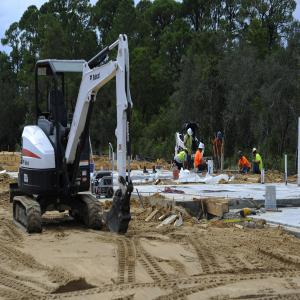blue: (218, 132, 223, 141), (239, 151, 243, 160), (185, 148, 189, 155)
white: (199, 143, 204, 154), (188, 129, 193, 138), (253, 149, 258, 157)
